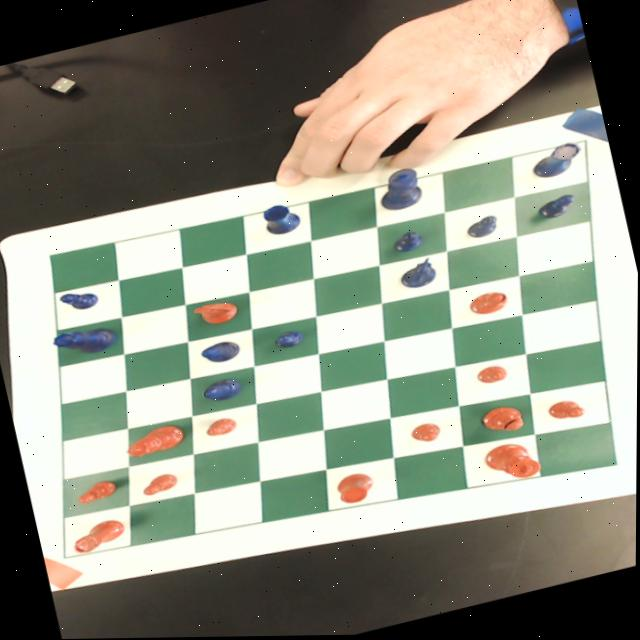B: (198, 338, 243, 368), (200, 376, 245, 405)
K: (372, 167, 428, 215)
N: (396, 256, 441, 292)
P: (535, 194, 577, 223), (57, 286, 99, 315), (464, 215, 500, 242), (390, 230, 426, 255), (272, 328, 305, 352)
Q: (49, 321, 118, 363)
R: (527, 140, 586, 182), (260, 201, 302, 238)
b: (479, 403, 528, 439), (466, 289, 509, 319)
k: (481, 438, 542, 488)
n: (190, 297, 240, 330)
p: (74, 478, 119, 506), (544, 397, 587, 426), (138, 471, 179, 497), (407, 421, 443, 448), (201, 415, 239, 439), (474, 364, 509, 389)
q: (122, 422, 186, 460)
r: (67, 517, 127, 556), (331, 471, 376, 508)
